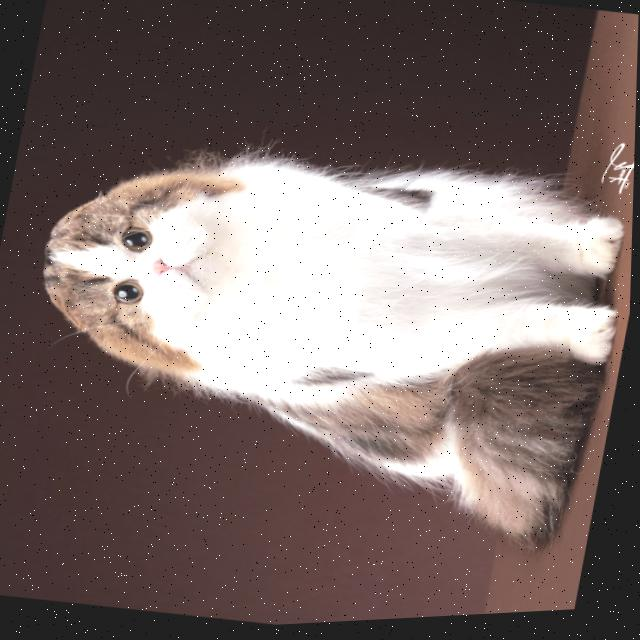Scottish Fold: (0, 95, 637, 582)
